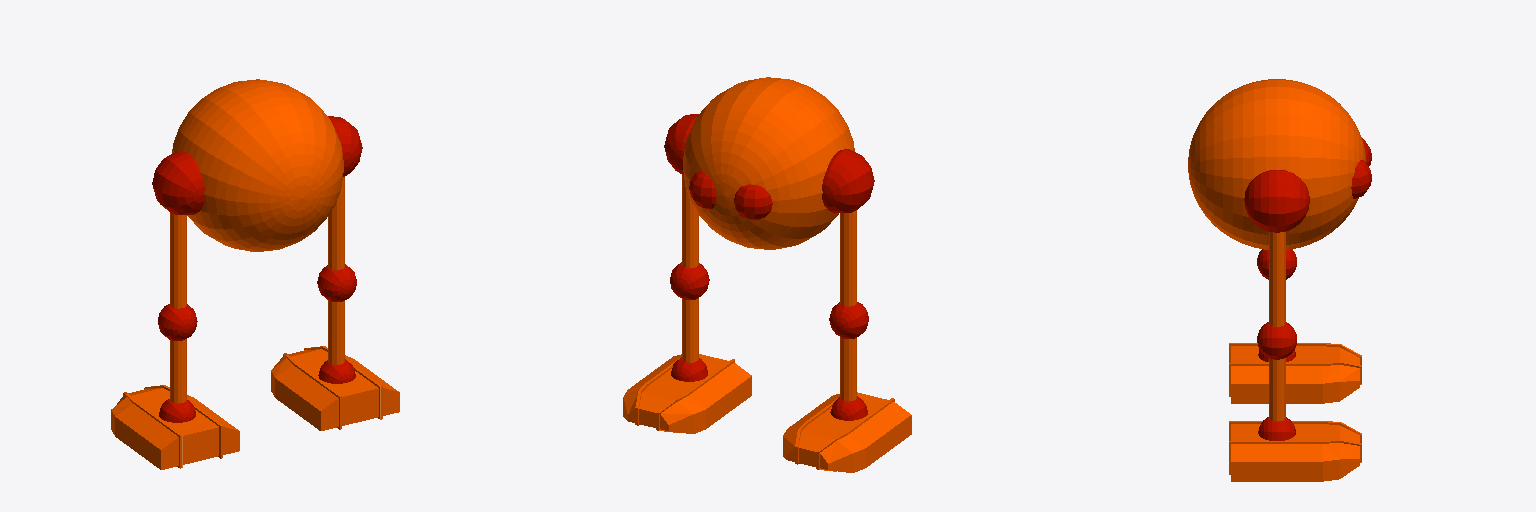
The picture shows the model from 3 angles: view 1: azimuth 30°, elevation 25°; view 2: azimuth 150°, elevation 25°; view 3: azimuth 270°, elevation 25°; orthographic projection.
Parts seen in each view (by area): view 1: Sphere.001, Sphere.005, Sphere.002, Sphere.004; view 2: Sphere.001, Sphere.005, Sphere.002, Sphere.004; view 3: Sphere.001, Sphere.005, Sphere.002, Sphere.004.
Boxes of the visible parts, box(x1,y1,x2,y2) form: Sphere.001: box(172, 79, 343, 251); Sphere.005: box(111, 346, 399, 469); Sphere.002: box(152, 116, 362, 308); Sphere.004: box(158, 264, 356, 403); Sphere.001: box(683, 77, 854, 249); Sphere.005: box(623, 354, 911, 472); Sphere.002: box(664, 114, 874, 306); Sphere.004: box(670, 262, 868, 401); Sphere.001: box(1188, 79, 1371, 249); Sphere.005: box(1229, 343, 1361, 481); Sphere.002: box(1244, 170, 1309, 326); Sphere.004: box(1257, 249, 1296, 421).
Size of the model in its own units: 7.95 by 10.79 by 5.33.
2 materials, 1 textured.